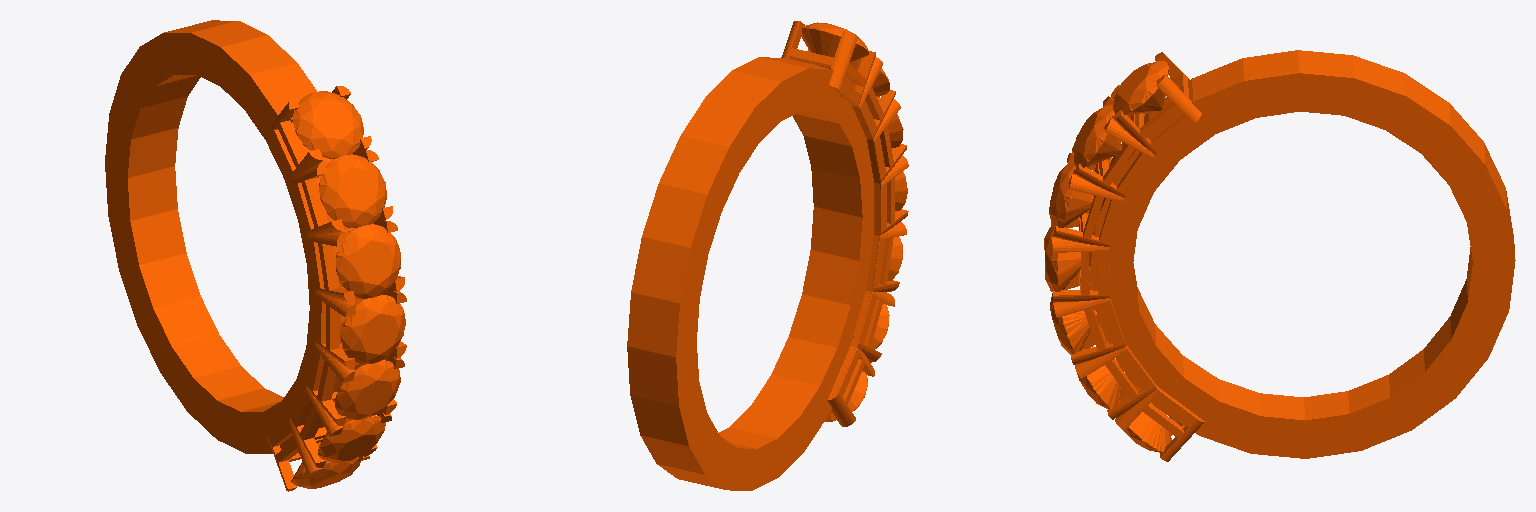
URDF robot description (2024-09-16_4_Ring_5d):
<?xml version="1.0" ?>
<robot name="2024-09-16_4_Ring_5d">
   <material name="obj_color">
      <color rgba="1.0 0.423529411765 0.0392156862745 1.0"/>
   </material>
   <link name="top">
      <inertial>
         <origin rpy="-0.00315054427678325 -0.001746875387676256 -0.001450532932683174" xyz="0.01390014619896296 0.08560934065551344 0.08716282720172706"/>
         <mass value="-0.4855618861452204"/>
         <inertia ixx="-0.003149383917073217" ixy="-4.439897304873039e-05" ixz="-1.179967673305167e-08" iyy="-0.001451700666002089" iyz="1.478442278340845e-06" izz="-0.001746868014067375"/>
      </inertial>
      <visual>
         <origin rpy="0 0 0" xyz="0 0 0"/>
         <geometry>
            <mesh filename="top_watertight_tiny.stl" scale="1 1 1"/>
         </geometry>
         <material name="obj_color"/>
      </visual>
      <collision>
         <origin rpy="0 0 0" xyz="0 0 0"/>
         <geometry>
            <mesh filename="top_watertight_tiny.obj" scale="1 1 1"/>
         </geometry>
      </collision>
   </link>
   <link name="bottom">
      <inertial>
         <origin rpy="1.633333333199431e-08 1.633333333199431e-08 1.633333333362855e-08" xyz="0.3464080000000008 0.3464080000000008 0.3464080000000008"/>
         <mass value="0.0009800000000000017"/>
         <inertia ixx="1.633333333253906e-08" ixy="5.447480642029219e-19" ixz="5.447480642029219e-19" iyy="1.633333333253906e-08" iyz="5.447480642029219e-19" izz="1.633333333253906e-08"/>
      </inertial>
      <visual>
         <origin rpy="0 0 0" xyz="0 0 0"/>
         <geometry>
            <mesh filename="bottom_watertight_tiny.stl" scale="1 1 1"/>
         </geometry>
         <material name="obj_color"/>
      </visual>
   </link>
   <link name="world"/>
   <joint name="world_to_base" type="fixed">
      <origin xyz="0 0 0"/>
      <axis xyz="0 0 0"/>
      <parent link="world"/>
      <child link="bottom"/>
   </joint>
   <joint name="rotation" type="revolute">
      <origin xyz="0 0 0"/>
      <axis xyz="0 0 -1"/>
      <parent link="bottom"/>
      <child link="top"/>
      <dynamics damping="1.0" friction="1.0"/>
      <limit effort="0.1" velocity="0.1" lower="0" upper="0.001"/>
   </joint>
</robot>

--- What the picture shows (computed from the rendered views, not written in the file) ---
The picture shows the robot from 3 angles, left to right: view 1: azimuth 30°, elevation 25°; view 2: azimuth 150°, elevation 25°; view 3: azimuth 270°, elevation 25°; orthographic projection.
Model 2024-09-16_4_Ring_5d with 3 links and 2 joints (1 revolute, 1 fixed), rooted at world, posed every joint at zero.
Links seen in each view (by area): view 1: top; view 2: top; view 3: top.
Boxes of the visible links, x1,y1,x2,y2 form: top: (105,20,406,491); top: (627,21,908,490); top: (1044,50,1515,461).
Size in the robot's own frame: 0.0311 by 0.1921 by 0.1742 metres.
Meshes: 2 distinct files referenced, 1 mesh visuals loaded (1 binary STL); not drawn: 1 (reference not matched to a file when rendering).
